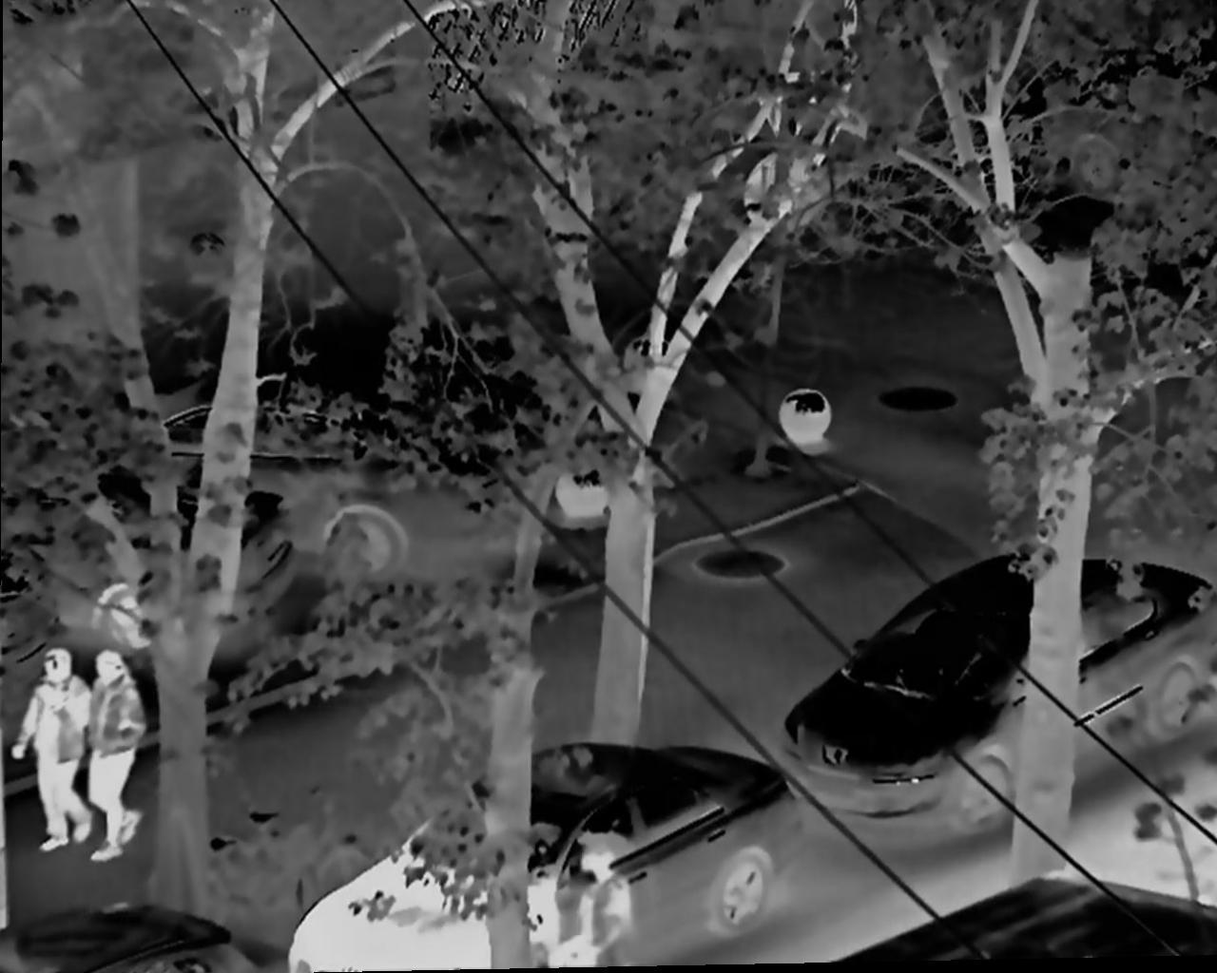person: (16, 648, 100, 858), (84, 652, 149, 865), (546, 846, 641, 963)
